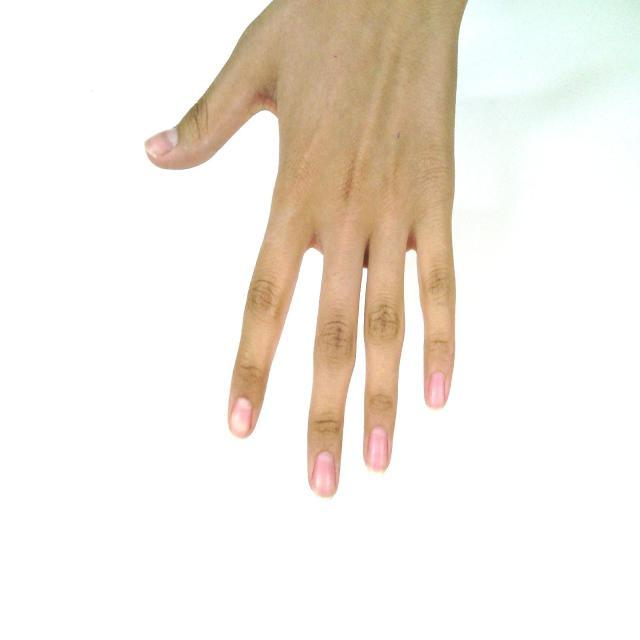Fingernail: (312, 453, 335, 498), (368, 427, 387, 472), (231, 398, 251, 435), (146, 132, 175, 157), (428, 372, 445, 408)
